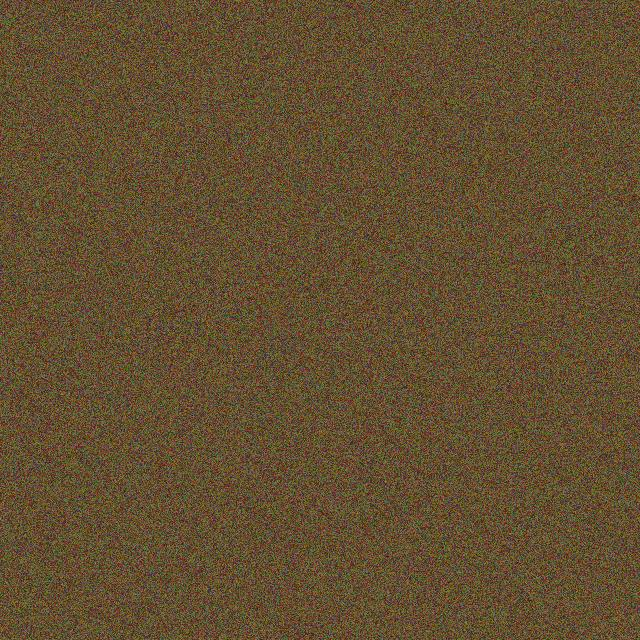unknown_man_made_object: (398, 439, 490, 551)
